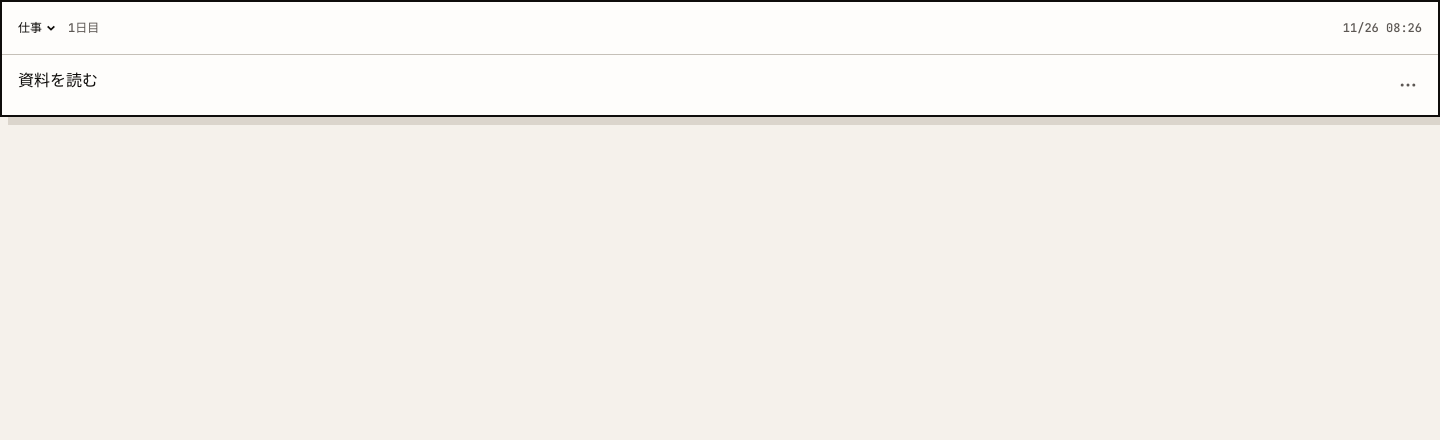
Test: TaskCard actions › completes a card straight from in-progress, skipping the pending lane
Click the button named "操作" at (1408, 85), box [1386,63,1430,107]
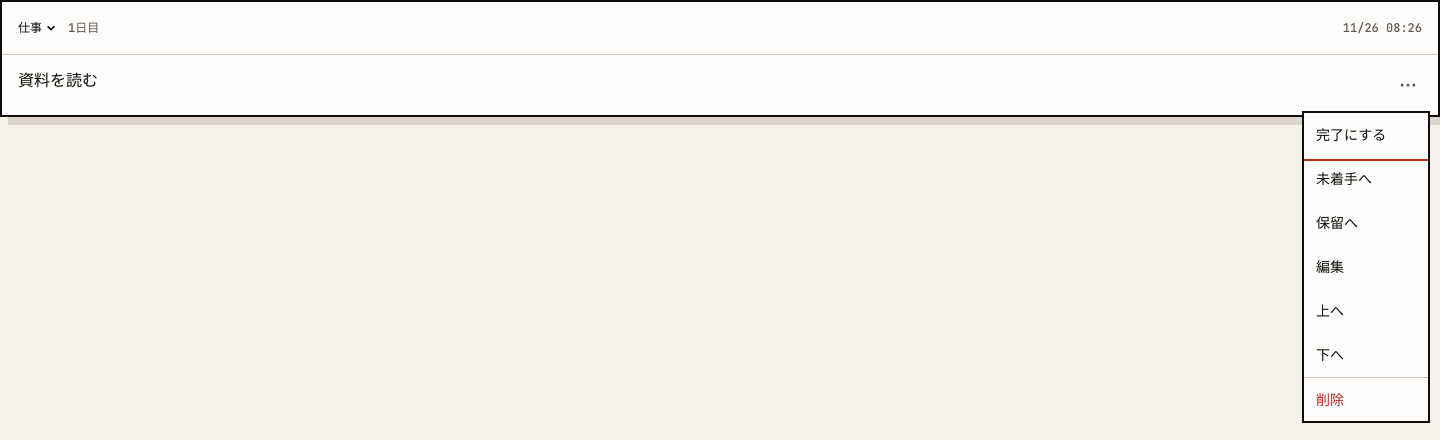
Click the menu item "完了にする" at (1366, 135), box [1304,113,1428,157]
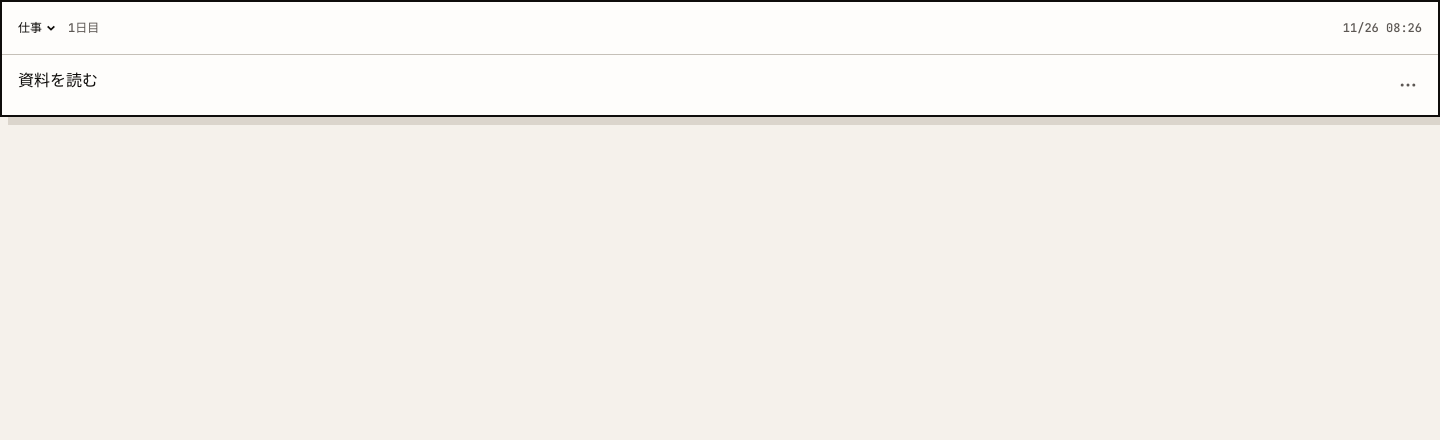
Result: the menu is gone
